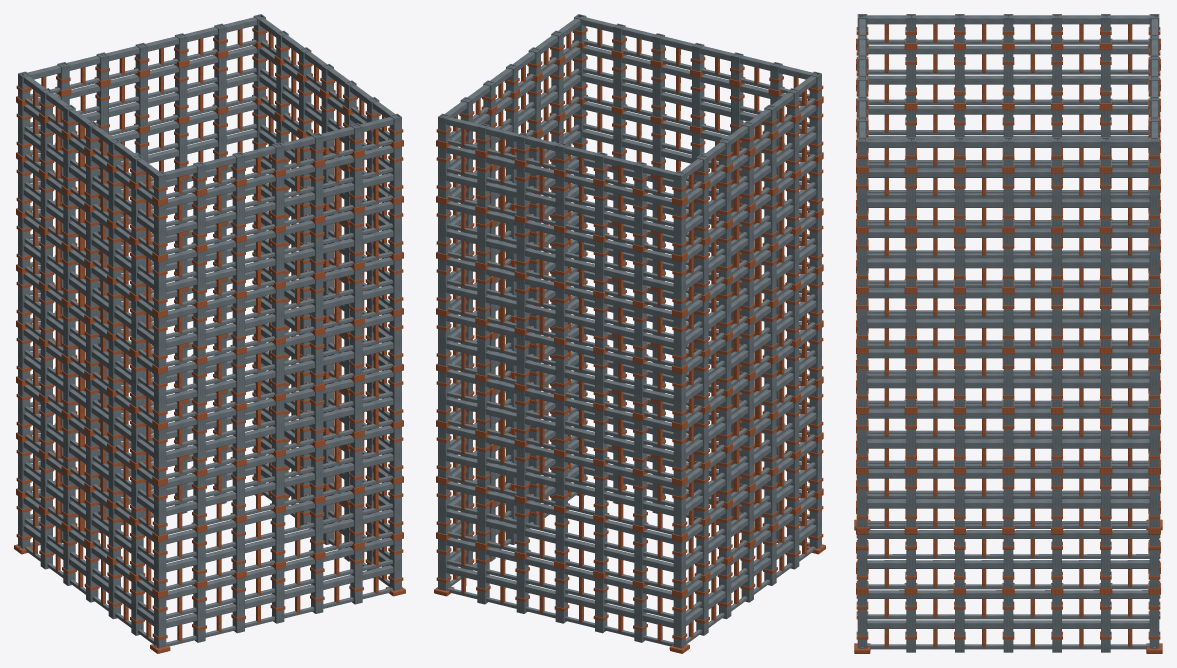
The picture shows the model from 3 angles, left to right: view 1: azimuth 30°, elevation 25°; view 2: azimuth 150°, elevation 25°; view 3: azimuth 270°, elevation 25°; orthographic projection. The views are drawn at different scales.
Parts seen in each view (by area): view 1: Tier 6 side 0 post 0, Tier 5 side 0 post 0, Tier 7 side 0 post 0, Tier 0 side 0 post 0, Tier 4 side 0 post 0, Tier 1 side 0 post 0, Tier 2 side 0 post 0, Tier 3 side 0 post 0, Tier 0 side 0 post 3, Tier 0 side 0 post 1, Tier 0 side 0 post 4, Tier 0 side 0 post 5; view 2: Tier 6 side 3 post 0, Tier 5 side 3 post 0, Tier 7 side 3 post 0, Tier 0 side 3 post 0, Tier 4 side 3 post 0, Tier 1 side 3 post 0, Tier 3 side 3 post 0, Tier 2 side 3 post 0, Tier 0 side 2 post 3, Tier 0 side 2 post 5, Tier 0 side 2 post 2, Tier 0 side 2 post 1; view 3: Tier 0 side 1 post 3, Tier 0 side 1 post 1, Tier 0 side 1 post 2, Tier 0 side 1 post 4, Tier 0 side 1 post 5, Tier 0 side 1 post 0, Tier 0 side 2 post 0, Tier 7 side 1 post 0, Tier 7 side 1 post 3, Tier 7 side 2 post 0, Tier 1 side 1 post 0, Tier 1 side 1 post 3 (+49 smaller).
Part boxes in pixels (x1,y1,x2,y2): Tier 6 side 0 post 0: (154,259,166,311); Tier 5 side 0 post 0: (154,315,166,367); Tier 7 side 0 post 0: (154,203,166,255); Tier 0 side 0 post 0: (154,596,166,648); Tier 4 side 0 post 0: (154,372,166,423); Tier 1 side 0 post 0: (154,540,166,591); Tier 2 side 0 post 0: (154,484,166,535); Tier 3 side 0 post 0: (154,428,166,479); Tier 0 side 0 post 3: (272,568,284,623); Tier 0 side 0 post 1: (193,587,205,642); Tier 0 side 0 post 4: (311,558,323,613); Tier 0 side 0 post 5: (350,548,362,604); Tier 6 side 3 post 0: (673,259,685,311); Tier 5 side 3 post 0: (673,315,685,367); Tier 7 side 3 post 0: (673,203,685,255); Tier 0 side 3 post 0: (673,596,685,648); Tier 4 side 3 post 0: (673,371,685,423); Tier 1 side 3 post 0: (673,540,685,591); Tier 3 side 3 post 0: (673,428,685,479); Tier 2 side 3 post 0: (673,484,685,535); Tier 0 side 2 post 3: (555,568,567,623); Tier 0 side 2 post 5: (634,587,646,642); Tier 0 side 2 post 2: (516,558,528,613); Tier 0 side 2 post 1: (477,548,489,604); Tier 0 side 1 post 3: (1003,594,1013,652); Tier 0 side 1 post 1: (906,594,915,652); Tier 0 side 1 post 2: (955,594,964,652); Tier 0 side 1 post 4: (1052,594,1061,652); Tier 0 side 1 post 5: (1101,594,1110,652); Tier 0 side 1 post 0: (857,594,867,648); Tier 0 side 2 post 0: (1149,594,1159,648); Tier 7 side 1 post 0: (857,173,867,226); Tier 7 side 1 post 3: (1003,173,1013,226); Tier 7 side 2 post 0: (1149,173,1159,226); Tier 1 side 1 post 0: (857,534,867,587); Tier 1 side 1 post 3: (1003,534,1013,587).
Bounding box in the file's own units: 2.85 × 5.21 × 2.85.
Materials: 2 (2 with a texture image).
